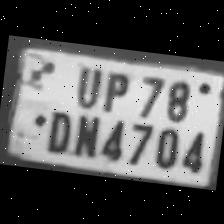0: (148, 120, 180, 169)
4: (94, 112, 128, 162), (177, 122, 207, 174)
7: (128, 69, 165, 119), (121, 116, 154, 166)
8: (159, 73, 193, 122)
D: (41, 104, 74, 153)
N: (67, 108, 102, 158)
P: (96, 64, 134, 114)
U: (69, 59, 104, 108)
